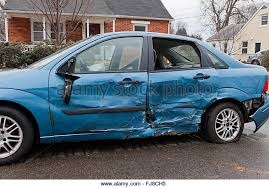Dent: (132, 76, 223, 134), (48, 79, 133, 117), (77, 122, 136, 139)
Scratch: (190, 112, 203, 131)
Smashed: (243, 93, 268, 128)
